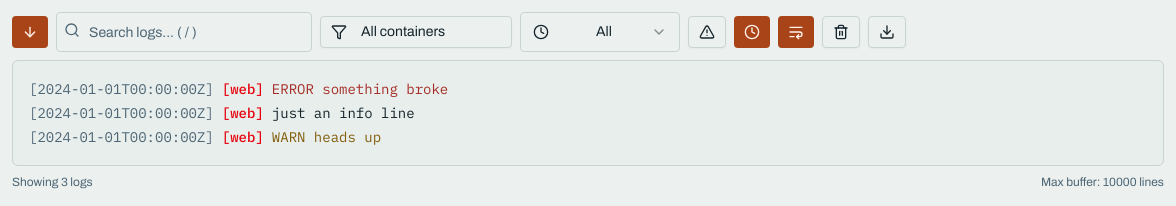
Scenario: LogViewer › filters to errors and warnings only when the toggle is on
This screenshot has width=1176, height=206.
Expected: the text "ERROR something broke" is shown, [272,80,448,98]
Expected: the text "just an info line" is shown, [272,104,415,122]
Click the button titled "Show errors & warnings only": (707, 32) [688,16,726,48]
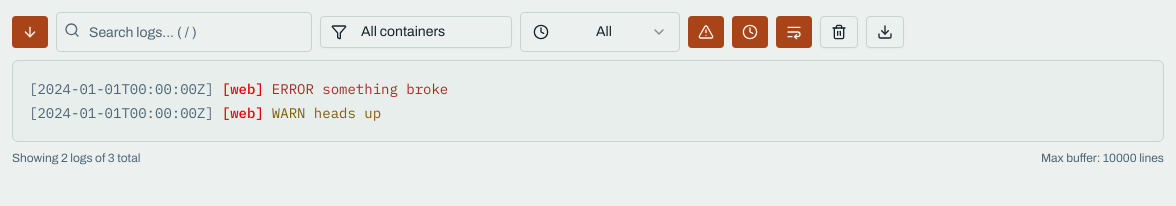
Expected: the text "ERROR something broke" is shown, [272,80,448,98]
Now the text "just an info line" is gone
